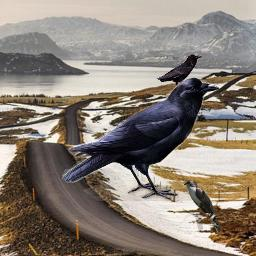Crow: (62, 77, 219, 201), (156, 53, 202, 91)
Cuckoo: (183, 180, 223, 233)
